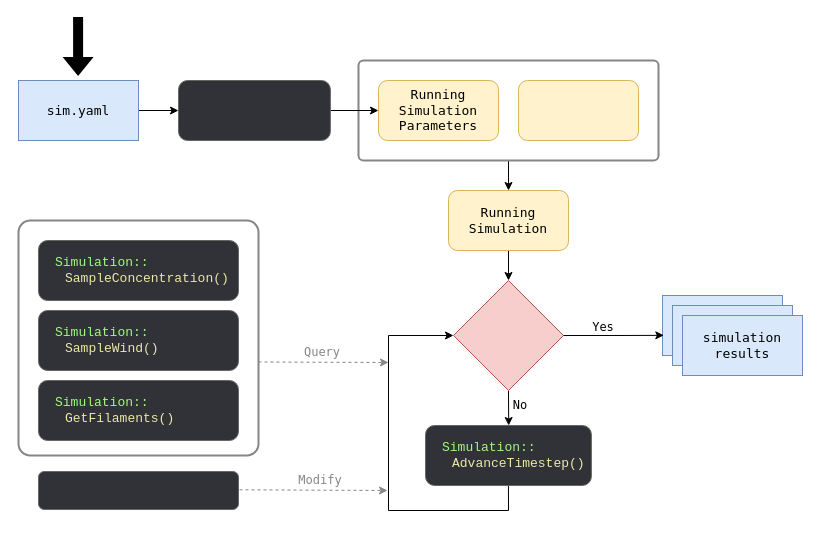
Image size: 820x536. Some labels were removed from this diagram. The box of each missing label's shape, as (x1, y1, x2, y2) in pixels:
Environment Configuration: (518, 80, 638, 140)
localAirflowDisturbances: (38, 470, 238, 510)
Parameters :: ReadFromYAML(): (178, 80, 330, 140)
Simulation Finished?: (452, 280, 564, 390)
